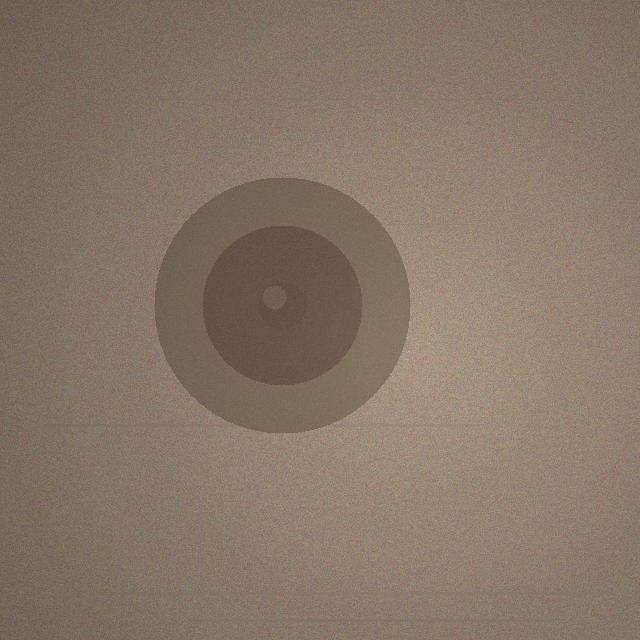good: (154, 177, 410, 433)
